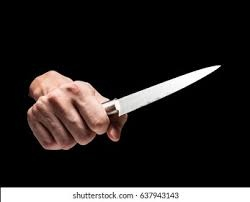knife: (26, 63, 222, 154)
